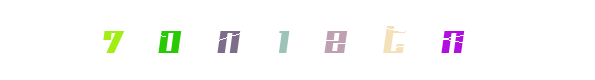0: (129, 0, 209, 80)
1: (258, 0, 338, 80)
2: (273, 0, 353, 80)
7: (77, 0, 157, 80)
N: (188, 0, 268, 80), (412, 0, 492, 80)
T: (308, 0, 388, 80)
